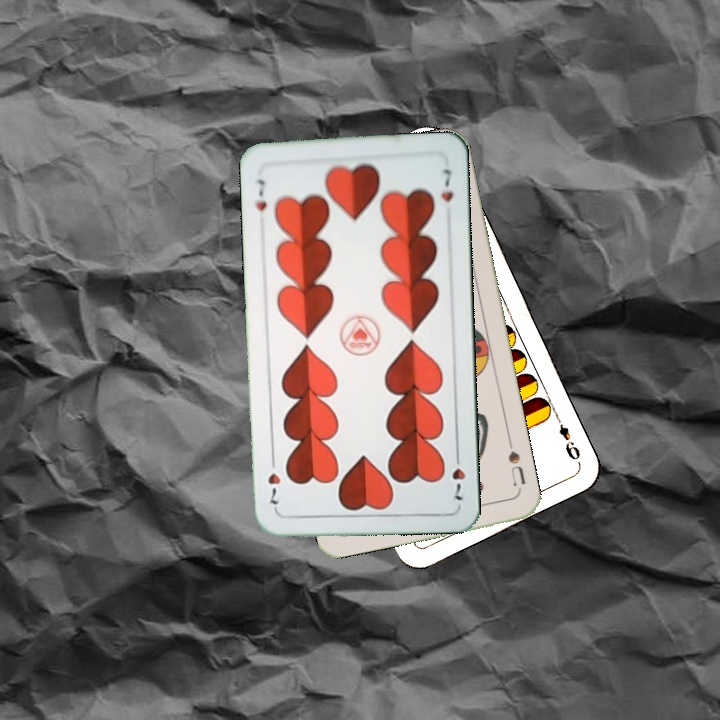E9: (551, 411, 583, 466)
H7: (448, 447, 468, 503), (252, 175, 269, 214)
SU: (504, 436, 529, 488)
